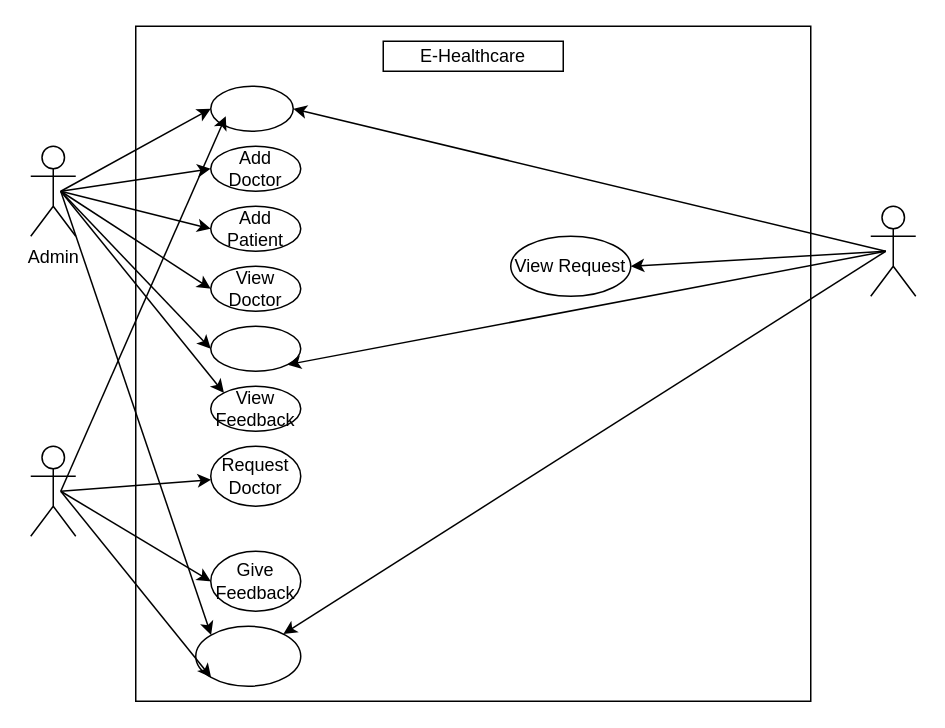
The diagram is 945 pixels wide and 728 high, and some of its shapes have lost their labels. The shapes that lost their labels are listed below. From the top down, each one's centre as x and y in pixels, then its label:
the point at 251,108: Login
the point at 892,250: Doctor
the point at 255,348: View Patient
the point at 52,490: Patient
the point at 247,655: Logout
